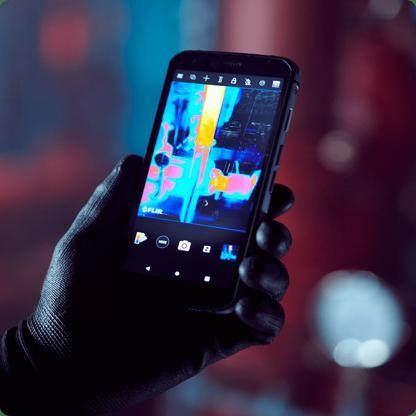not trash: (124, 51, 306, 313)
